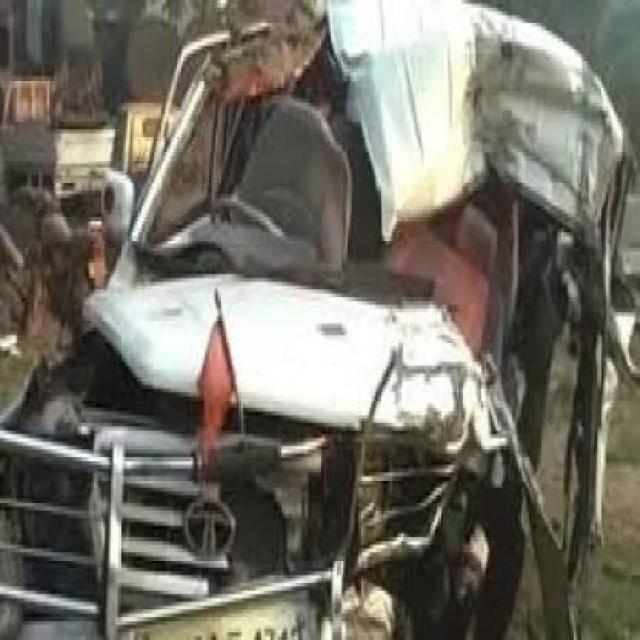accident: (4, 7, 623, 640)
